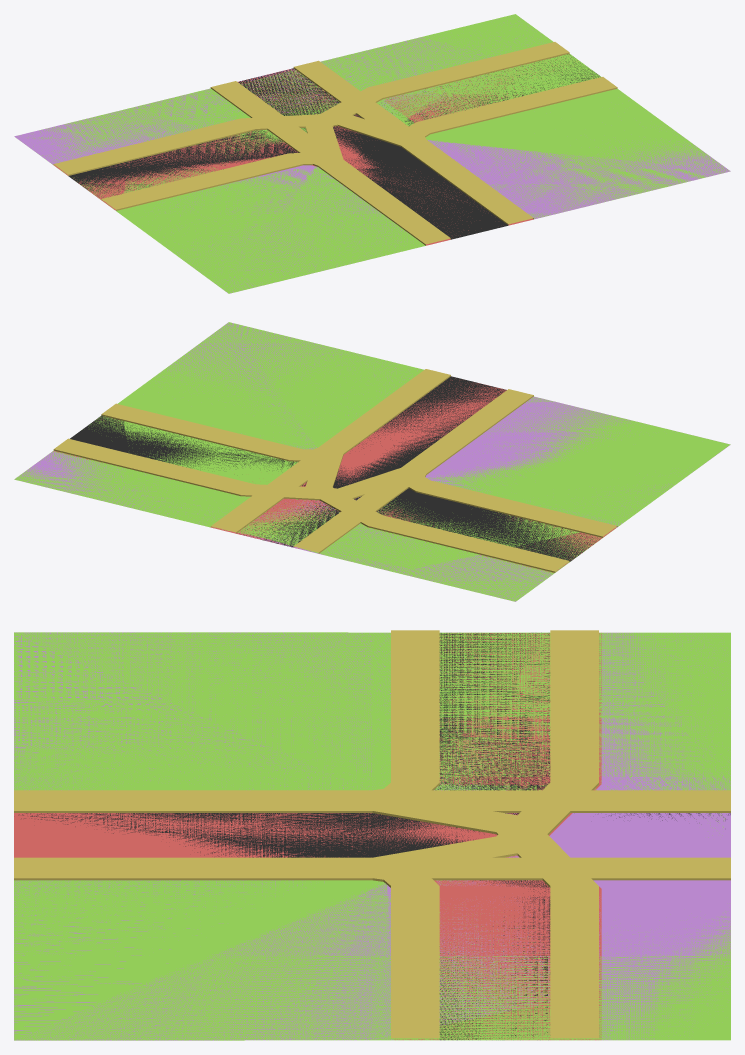
Rendered from Ruas.fbx.
3 views of the same model, one above another, from view 1: azimuth 30°, elevation 25°; view 2: azimuth 150°, elevation 25°; view 3: azimuth 270°, elevation 25° (orthographic). The views are drawn at different scales.
Parts seen in each view (by area): view 1: Rua zona 1, Rua zona 1 curva.L, Rua zona 1 curva.R, Estradinha curva.L, Estradinha curva.R, Estradinha; view 2: Rua zona 1 curva.L, Rua zona 1, Rua zona 1 curva.R, Estradinha curva.R, Estradinha curva.L, Estradinha; view 3: Rua zona 1, Rua zona 1 curva.L, Rua zona 1 curva.R, Estradinha curva.R, Estradinha curva.L, Estradinha.
Boxes of the visible parts, x1,y1,x2,y2 form: Rua zona 1: (16, 14, 727, 292); Rua zona 1 curva.L: (53, 56, 620, 293); Rua zona 1 curva.R: (124, 15, 729, 293); Estradinha curva.L: (14, 37, 730, 293); Estradinha curva.R: (109, 18, 729, 245); Estradinha: (238, 69, 533, 245); Rua zona 1 curva.L: (122, 323, 730, 601); Rua zona 1: (28, 322, 618, 601); Rua zona 1 curva.R: (14, 324, 714, 568); Estradinha curva.R: (15, 323, 629, 525); Estradinha curva.L: (207, 324, 729, 601); Estradinha: (211, 384, 503, 551); Rua zona 1: (14, 632, 730, 1040); Rua zona 1 curva.L: (14, 630, 730, 1040); Rua zona 1 curva.R: (14, 632, 725, 1040); Estradinha curva.R: (14, 633, 730, 1040); Estradinha curva.L: (14, 632, 730, 1040); Estradinha: (14, 813, 650, 857).
Bounding box in the file's own units: 3504 × 8.79 × 2600.
